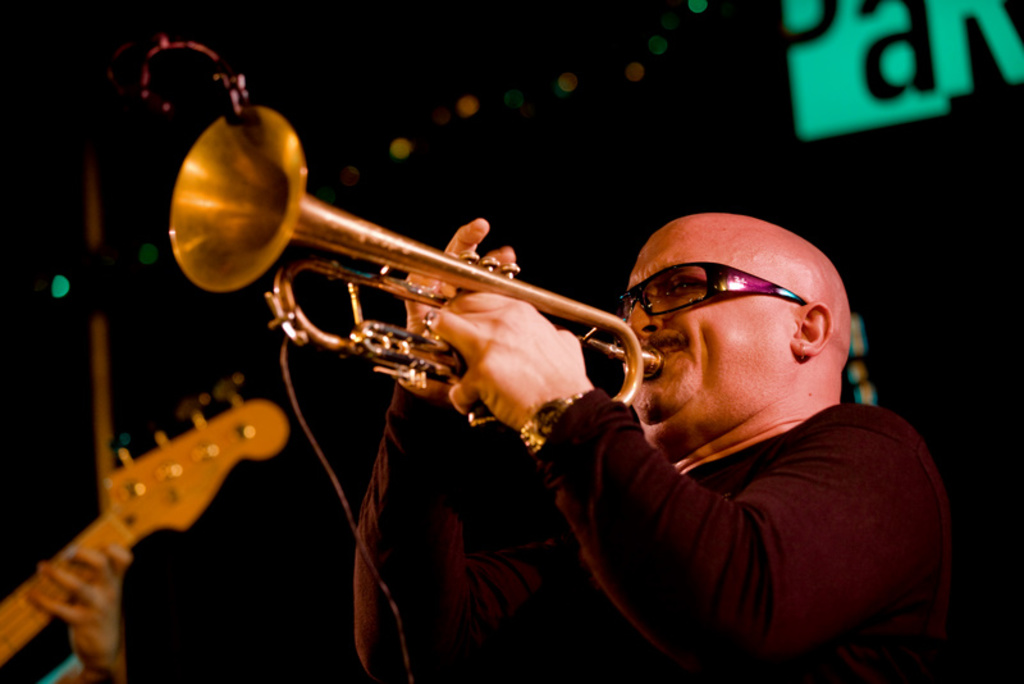Person: (353, 212, 951, 683)
